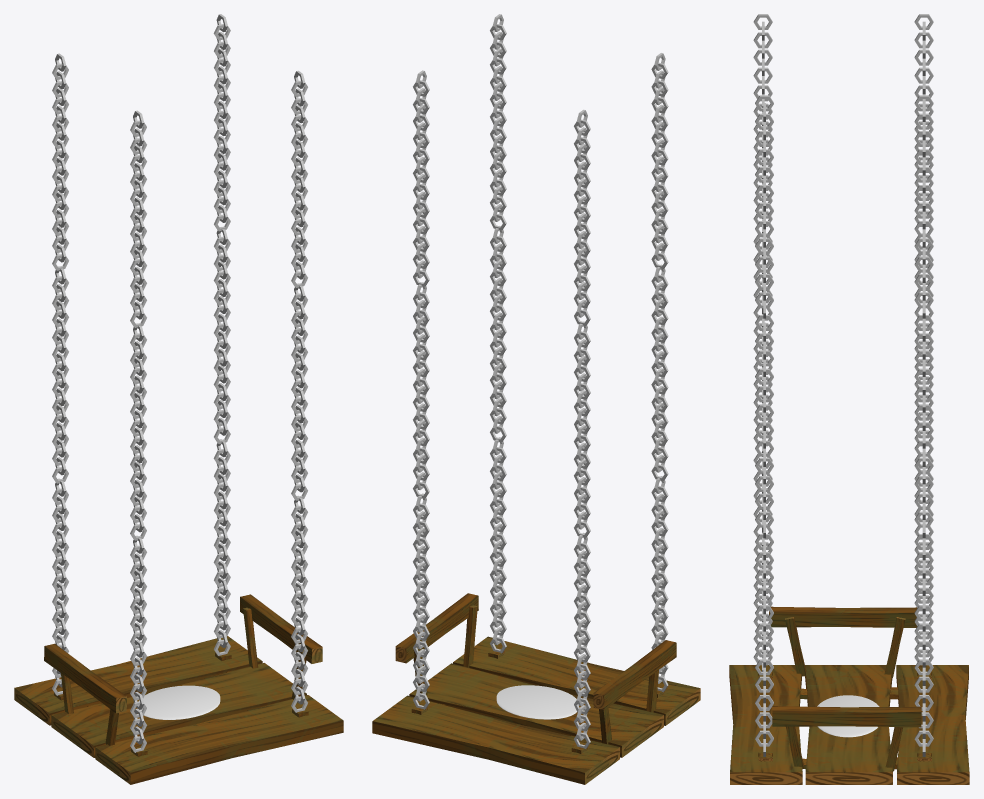
File: Elevador.fbx
3 views of the same model, side by side, from view 1: azimuth 30°, elevation 25°; view 2: azimuth 150°, elevation 25°; view 3: azimuth 270°, elevation 25° (orthographic). The views are drawn at different scales.
Visible parts, largest first — view 1: Elevador, Box121, Box121.001, Box121.002, Correntes.002, Correntes.027, Correntes.000, Correntes.001, Cylinder, Box105, Box105.001; view 2: Elevador, Box121.002, Box121.001, Box121, Correntes.027, Correntes.000, Correntes.001, Correntes.002, Cylinder, Box105, Box105.001, Box106.001; view 3: Elevador, Box121.001, Box121.002, Box121, Box105.001, Box105, Correntes.000, Correntes.027, Correntes.002, Correntes.001, Cylinder, Box106 (+1 smaller).
Part boxes in pixels (<box>): Elevador: <box>52,14,307,540</box>; Box121: <box>95,695,343,784</box>; Box121.001: <box>51,663,306,757</box>; Box121.002: <box>14,636,262,725</box>; Correntes.002: <box>130,535,146,752</box>; Correntes.027: <box>291,495,307,712</box>; Correntes.000: <box>213,439,230,655</box>; Correntes.001: <box>52,478,68,695</box>; Cylinder: <box>138,685,220,719</box>; Box105: <box>44,643,126,713</box>; Box105.001: <box>240,594,322,663</box>; Elevador: <box>413,14,668,537</box>; Box121.002: <box>372,695,619,784</box>; Box121.001: <box>409,663,663,757</box>; Box121: <box>453,636,700,725</box>; Correntes.027: <box>490,437,506,653</box>; Correntes.000: <box>413,493,429,709</box>; Correntes.001: <box>574,532,590,748</box>; Correntes.002: <box>651,476,668,692</box>; Cylinder: <box>496,685,578,719</box>; Box105: <box>593,640,676,709</box>; Box105.001: <box>395,593,478,663</box>; Box106.001: <box>463,605,477,667</box>; Elevador: <box>753,14,933,538</box>; Box121.001: <box>805,665,892,784</box>; Box121.002: <box>896,665,969,784</box>; Box121: <box>729,665,802,784</box>; Box105.001: <box>772,706,921,727</box>; Box105: <box>769,606,917,627</box>; Correntes.000: <box>914,534,933,756</box>; Correntes.027: <box>755,534,773,756</box>; Correntes.002: <box>753,452,772,671</box>; Correntes.001: <box>914,452,933,665</box>; Cylinder: <box>817,695,879,737</box>; Box106: <box>785,617,806,676</box>.
Size of the model in its own units: 417 by 1221 by 393.
